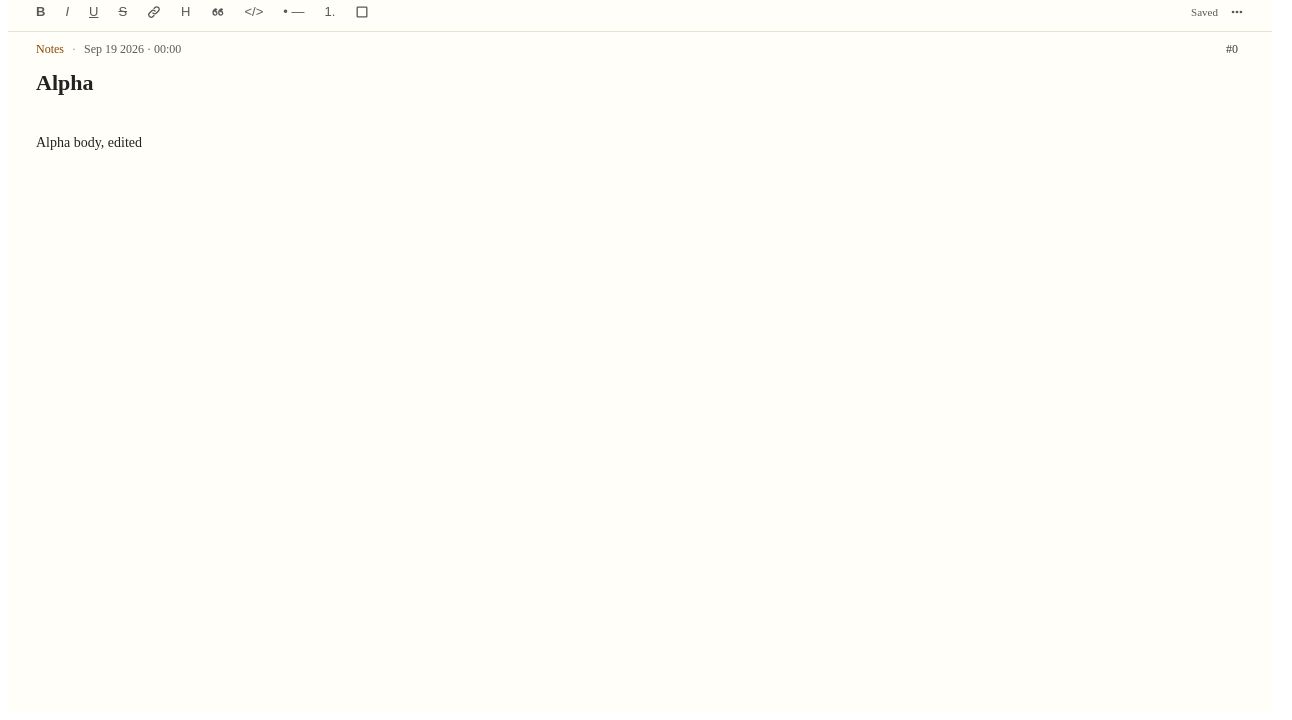
Test: Retry after a failure says "Sources…" while it reads, not nothing
(page scrolled)
Clear the field with class "editor-body" at (89, 142), box 36,135 -> 142,150
Wait 1500 ms
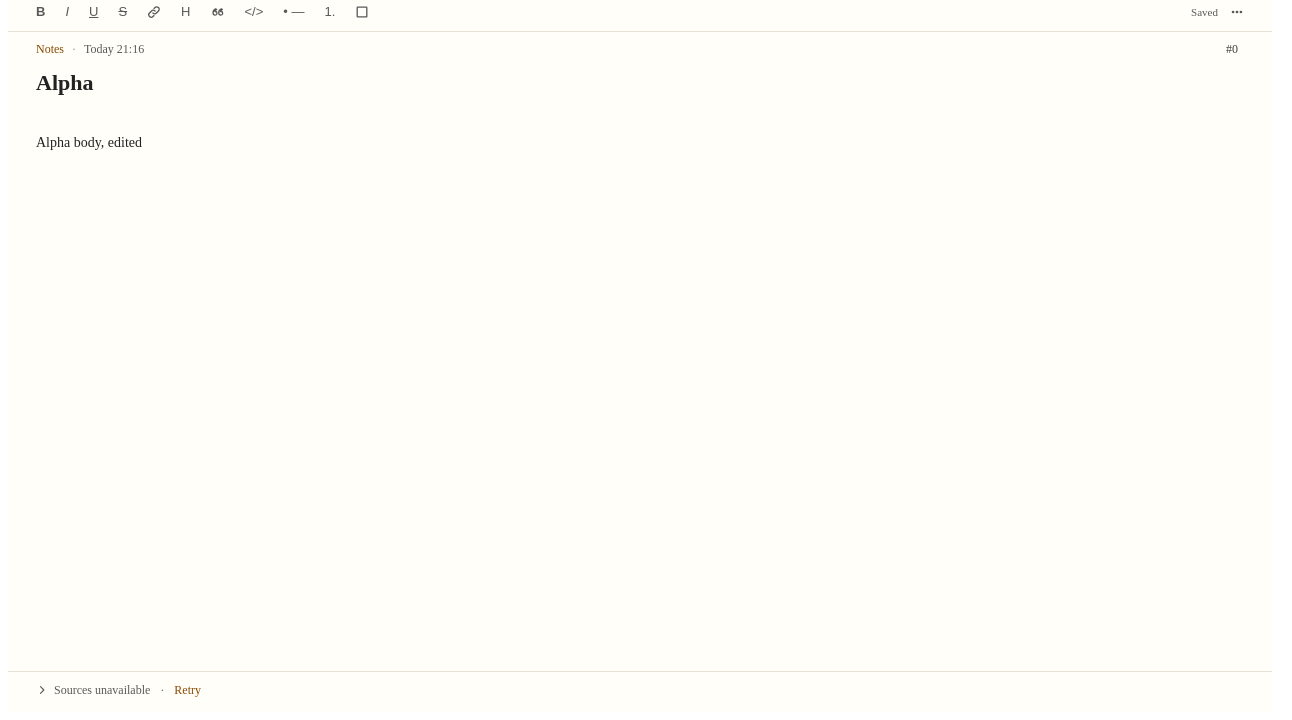
Check: the element with class "line" reads "Sources unavailable · Retry", box 32,676 -> 205,704
Click the button with class "retry" at (188, 690), box 170,676 -> 205,704
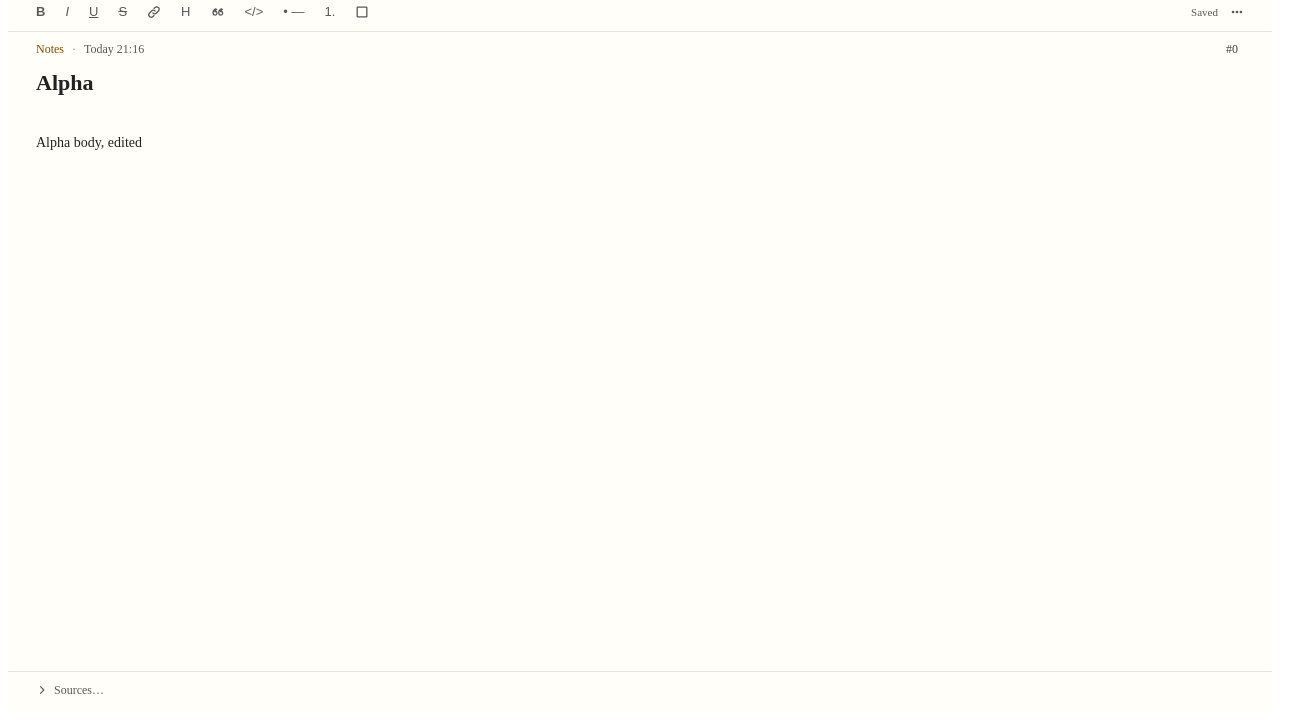
Check: the text "Sources…" is shown, box 54,682 -> 104,698
